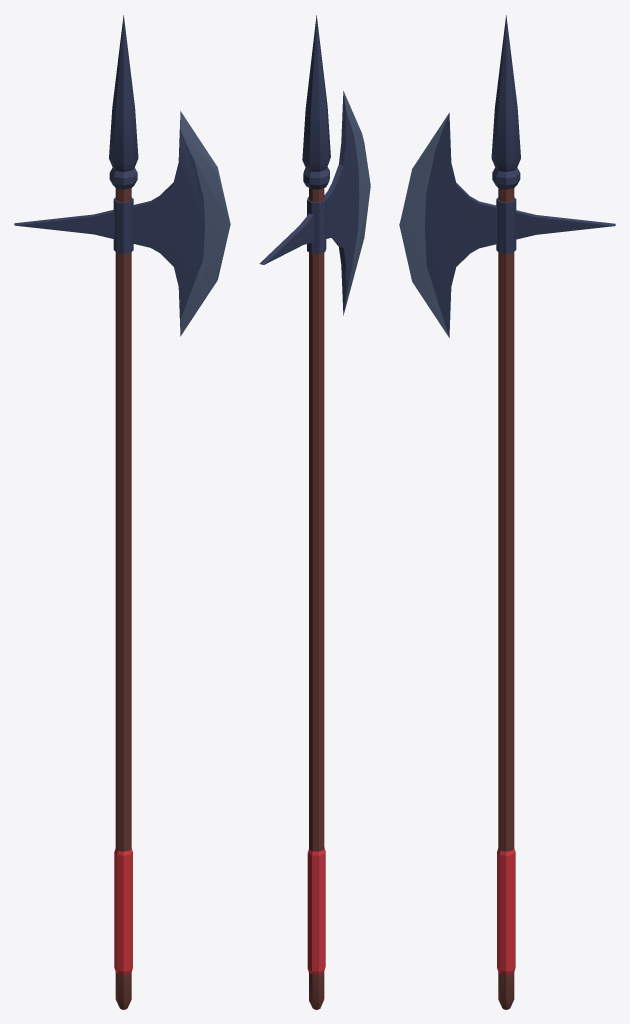
The model's file is Polearm_10.fbx.
The picture shows the model from 3 angles, left to right: view 1: azimuth 90°, elevation 25°; view 2: azimuth 150°, elevation 25°; view 3: azimuth 270°, elevation 25°; orthographic projection.
Visible parts, largest first — view 1: Polearm_10; view 2: Polearm_10; view 3: Polearm_10.
Boxes of the visible parts, bbox=[...] form: Polearm_10: bbox=[14, 15, 230, 1009]; Polearm_10: bbox=[259, 15, 370, 1009]; Polearm_10: bbox=[399, 15, 615, 1009].
Size of the model in its own units: 6.85 by 254 by 50.04.
